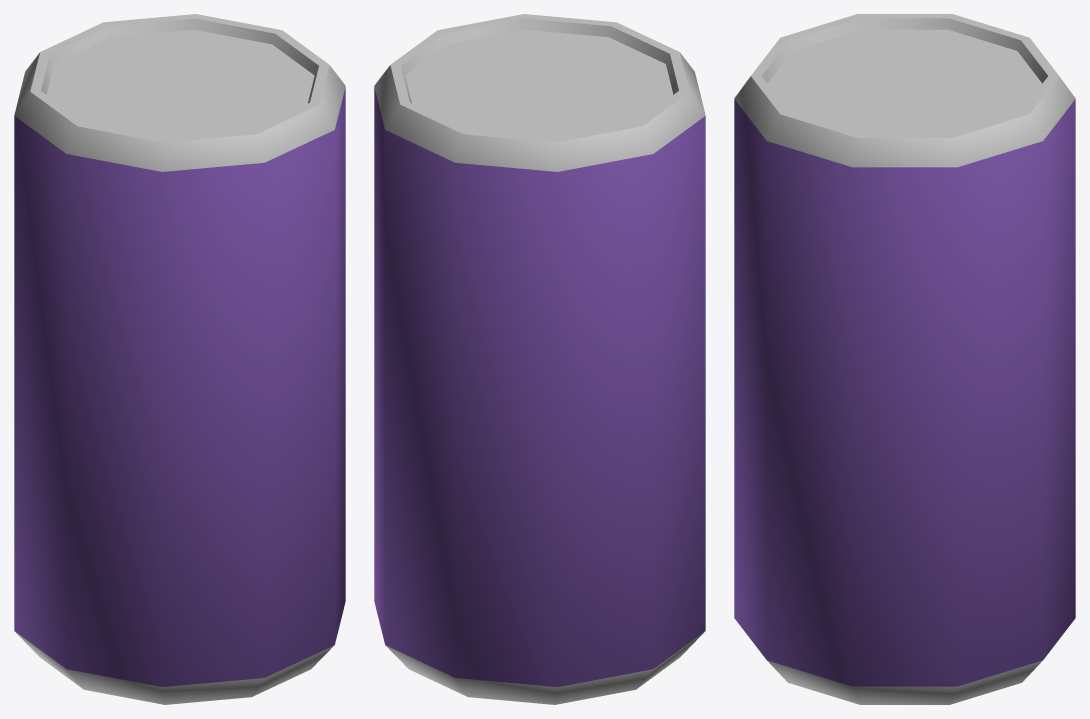
Rendered from can_6.glb.
The picture shows the model from 3 angles, left to right: view 1: azimuth 30°, elevation 25°; view 2: azimuth 150°, elevation 25°; view 3: azimuth 270°, elevation 25°; orthographic projection.
Visible parts, largest first — view 1: Soda Alt; view 2: Soda Alt; view 3: Soda Alt.
Part boxes in pixels (bbox=[...]): Soda Alt: bbox=[14, 14, 345, 704]; Soda Alt: bbox=[374, 14, 705, 704]; Soda Alt: bbox=[734, 14, 1075, 704].
Size of the model in its own units: 0.085 by 0.1657 by 0.0893.
Materials: 1 (1 with a texture image).
